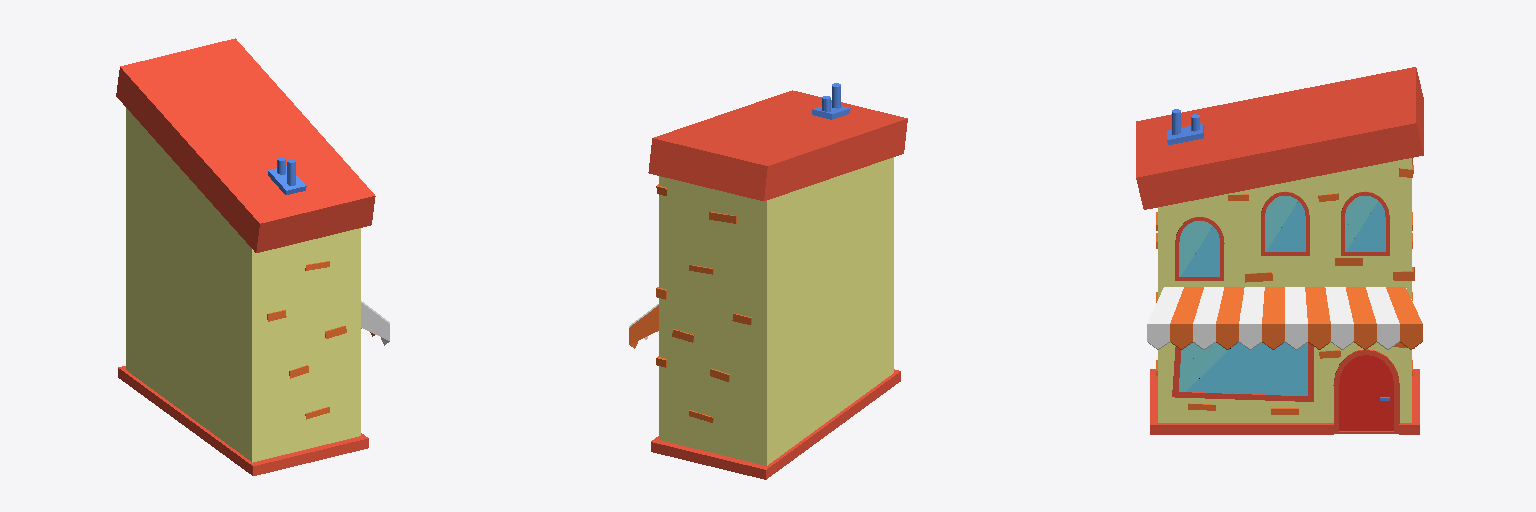
Rendered from cafe.obj.
The picture shows the model from 3 angles: view 1: azimuth 30°, elevation 25°; view 2: azimuth 150°, elevation 25°; view 3: azimuth 270°, elevation 25°; orthographic projection.
Parts seen in each view (by area): view 1: pasted__group2 group cafe:polySurface13 cafe:polySurface7, pasted__group2 group cafe:pasted__pCube2 cafe:group, cafe:pCube2 pasted__group2 group, pasted__group2 group cafe:pCube10, pasted__group2 group cafe:group42 cafe:pasted__pasted__pasted__p; view 2: pasted__group2 group cafe:polySurface13 cafe:polySurface7, pasted__group2 group cafe:pasted__pCube2 cafe:group, cafe:pCube2 pasted__group2 group, pasted__group2 group cafe:pasted__pasted__pasted__pasted__pasted, pasted__group2 group cafe:pCube10; view 3: pasted__group2 group cafe:pasted__pCube2 cafe:group, pasted__group2 group cafe:polySurface13 cafe:polySurface7, pasted__group2 group cafe:pCube10, pasted__group2 group cafe:pasted__pCube5 cafe:group6, pasted__group2 group cafe:pCube8, cafe:pCube2 pasted__group2 group, pasted__group2 group cafe:polySurface14, pasted__group2 group cafe:pasted__pasted__polySurface14 cafe:pas, pasted__group2 group cafe:pasted__polySurface14 cafe:group17, pasted__group2 group cafe:pasted__pasted__pCube3, pasted__group2 group cafe:pasted__pCube7 cafe:group8, pasted__group2 group cafe:pCube4 (+3 smaller).
Part boxes in pixels (x1,y1,x2,y2): pasted__group2 group cafe:polySurface13 cafe:polySurface7: (126, 108, 360, 462); pasted__group2 group cafe:pasted__pCube2 cafe:group: (116, 38, 375, 252); cafe:pCube2 pasted__group2 group: (118, 366, 368, 475); pasted__group2 group cafe:pCube10: (361, 301, 389, 345); pasted__group2 group cafe:group42 cafe:pasted__pasted__pasted__p: (267, 261, 346, 419); pasted__group2 group cafe:polySurface13 cafe:polySurface7: (659, 157, 893, 465); pasted__group2 group cafe:pasted__pCube2 cafe:group: (648, 90, 907, 200); cafe:pCube2 pasted__group2 group: (651, 369, 900, 479); pasted__group2 group cafe:pasted__pasted__pasted__pasted__pasted: (656, 184, 751, 422); pasted__group2 group cafe:pCube10: (629, 304, 658, 348); pasted__group2 group cafe:pasted__pCube2 cafe:group: (1136, 67, 1423, 209); pasted__group2 group cafe:polySurface13 cafe:polySurface7: (1158, 158, 1411, 422); pasted__group2 group cafe:pCube10: (1147, 287, 1422, 349); pasted__group2 group cafe:pasted__pCube5 cafe:group6: (1186, 342, 1307, 395); pasted__group2 group cafe:pCube8: (1339, 355, 1393, 430); cafe:pCube2 pasted__group2 group: (1150, 369, 1419, 434); pasted__group2 group cafe:polySurface14: (1265, 196, 1305, 251); pasted__group2 group cafe:pasted__pasted__polySurface14 cafe:pas: (1345, 196, 1385, 251); pasted__group2 group cafe:pasted__polySurface14 cafe:group17: (1179, 221, 1219, 276); pasted__group2 group cafe:pasted__pasted__pCube3: (1333, 349, 1399, 433); pasted__group2 group cafe:pasted__pCube7 cafe:group8: (1179, 343, 1231, 391); pasted__group2 group cafe:pCube4: (1172, 392, 1311, 401).
Bounding box in the file's own units: 14.71 × 32.31 × 27.